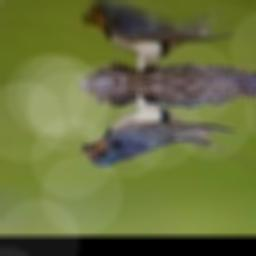Swallow: (82, 91, 256, 168)
